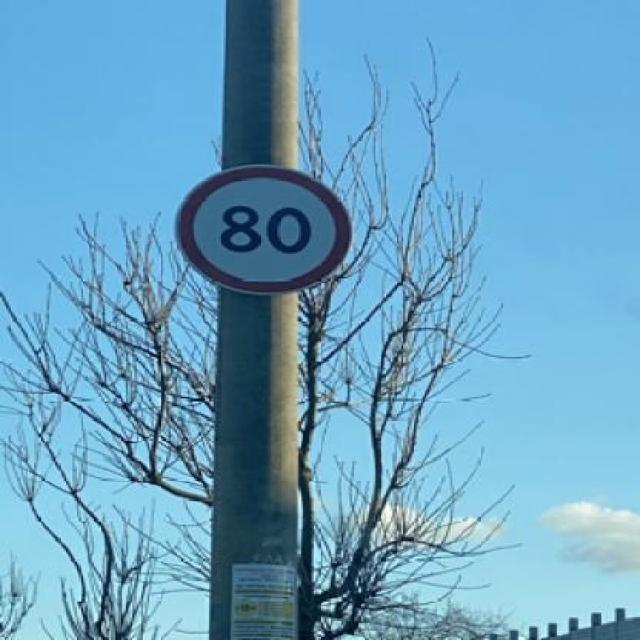forb_speed_over_80: (178, 166, 351, 292)
